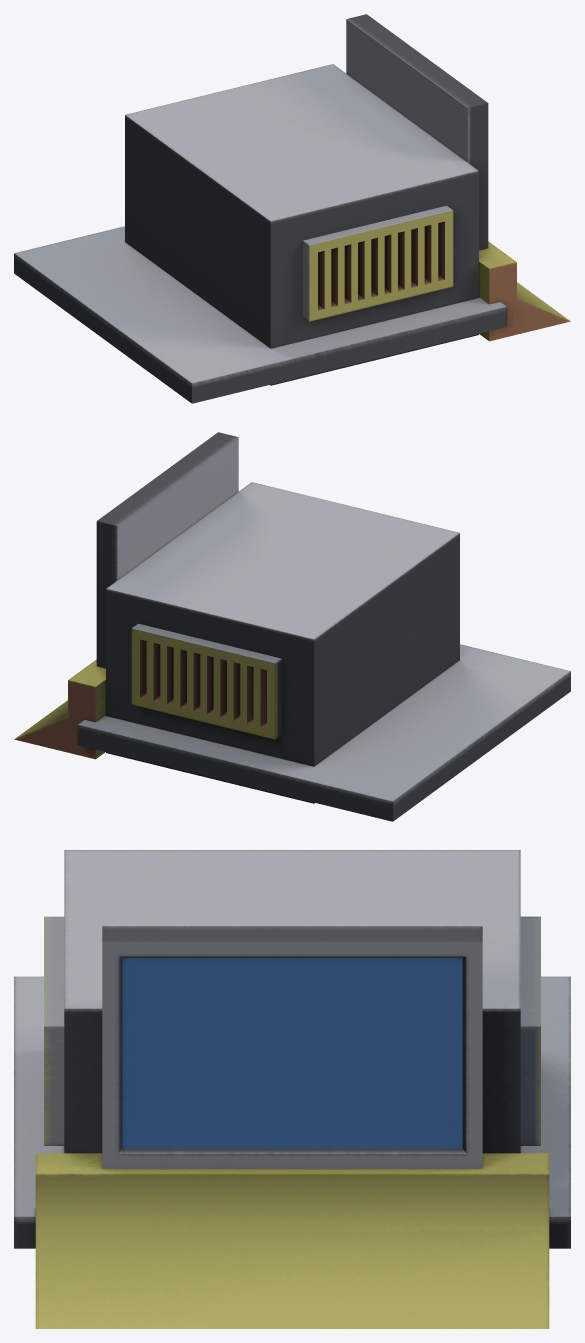
File: Machine_B.FBX
3 renders of one model, top to bottom at view 1: azimuth 30°, elevation 25°; view 2: azimuth 150°, elevation 25°; view 3: azimuth 270°, elevation 25°, orthographic. The views are drawn at different scales.
Visible parts, largest first — view 1: Machine_B; view 2: Machine_B; view 3: Machine_B.
Boxes of the visible parts, box(x1,y1,x2,y2) form: Machine_B: box(14, 14, 570, 403); Machine_B: box(14, 432, 570, 821); Machine_B: box(14, 850, 570, 1328).
Size of the model in its own units: 79.97 by 43.12 by 63.95.
